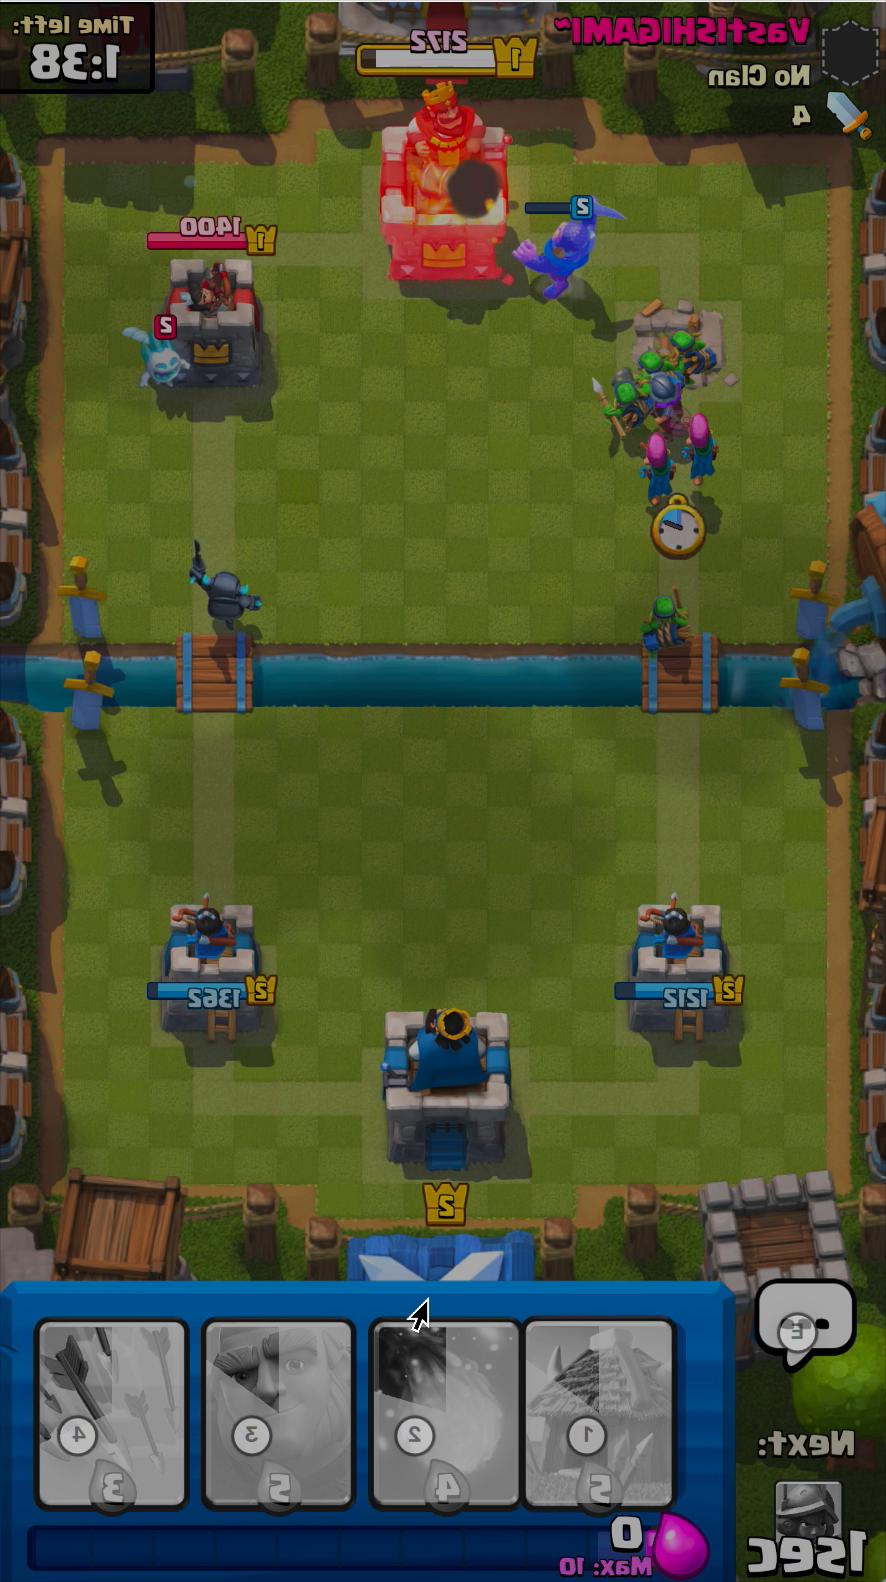archere: (682, 405, 720, 491), (644, 425, 677, 510)
chevalier: (514, 203, 631, 311)
gobelin_lances: (638, 588, 698, 661), (598, 371, 651, 442), (663, 335, 716, 386), (626, 347, 669, 401)
mini_PEKKA: (178, 548, 270, 638)
mousquetaire: (641, 364, 687, 435)
